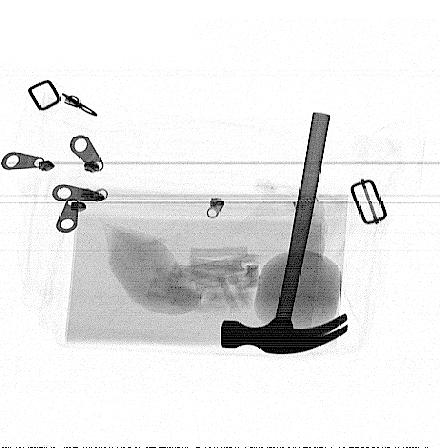Hammer: (220, 111, 350, 354)
